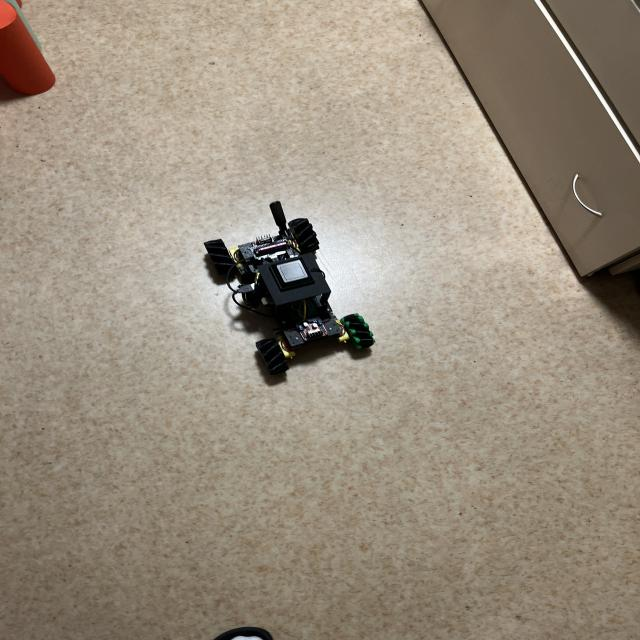robot: (204, 201, 375, 374)
